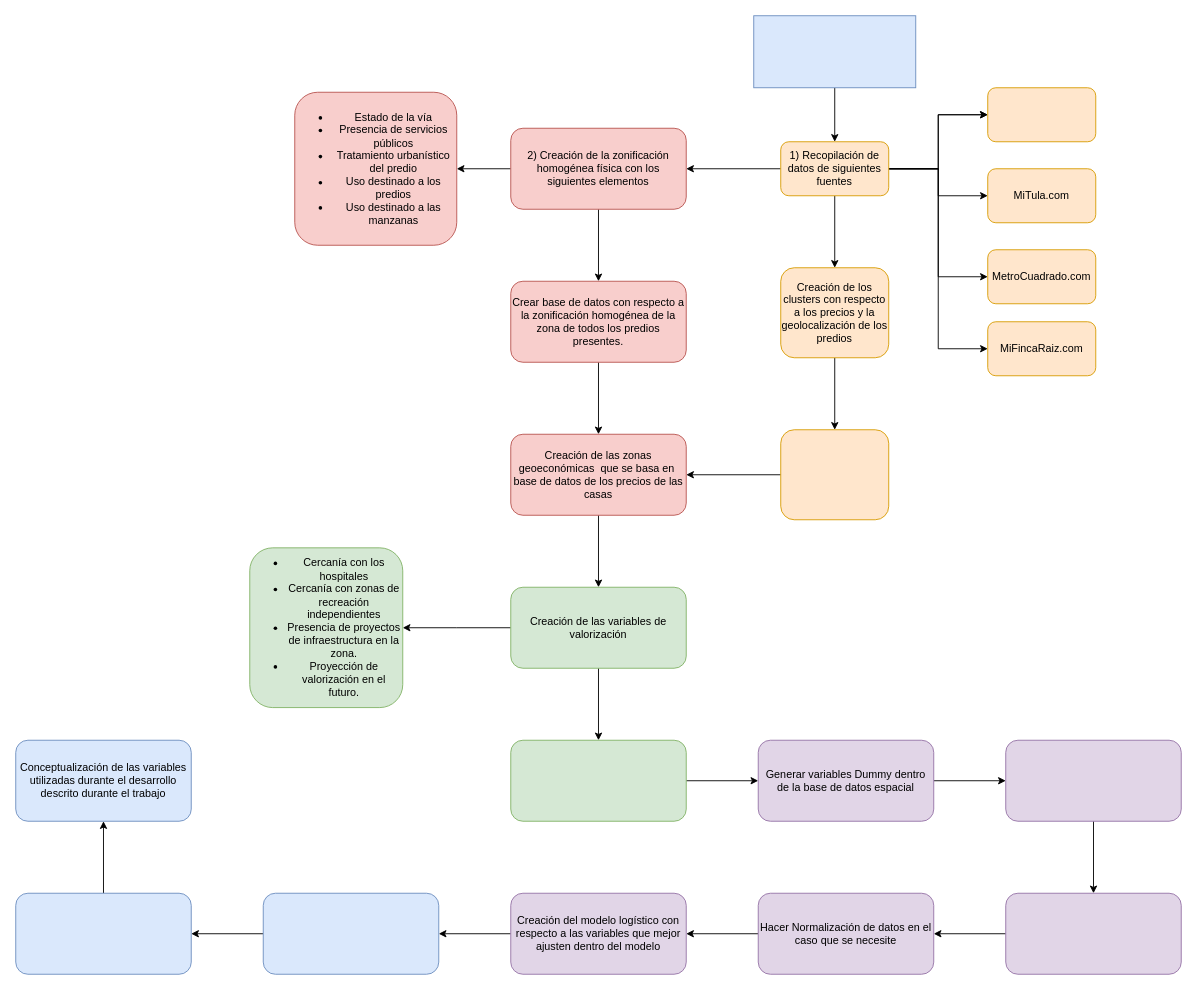
Image size: 1197x990. Some labels were removed from this diagram. Here are the shapes that lost their labels. From the top down, the centre of each, then its label:
(x=834, y=51): Financiación de Kennedy mediante la el instrumento de valorización
(x=1041, y=114): MercadoLibre.com
(x=834, y=474): Geoespacialización de la base de datos con respecto al barrio Mandalay
(x=598, y=780): Generar la base de datos con respecto a las variables de valorización
(x=1093, y=780): Depurar la base de datos con respecto a la correlación entre las variables
(x=103, y=933): Estudio de los resultados con respecto a los valores geoeconómicos de la zona
(x=350, y=933): Verificación del modelo logístico y sus predicciones
(x=1093, y=933): Verificar las pruebas estadísticas dentro de la base de datos
